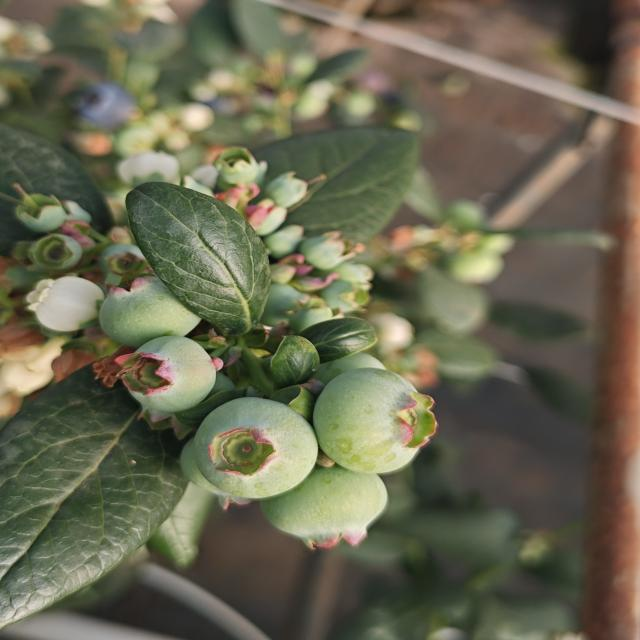ripe: (70, 81, 133, 130)
